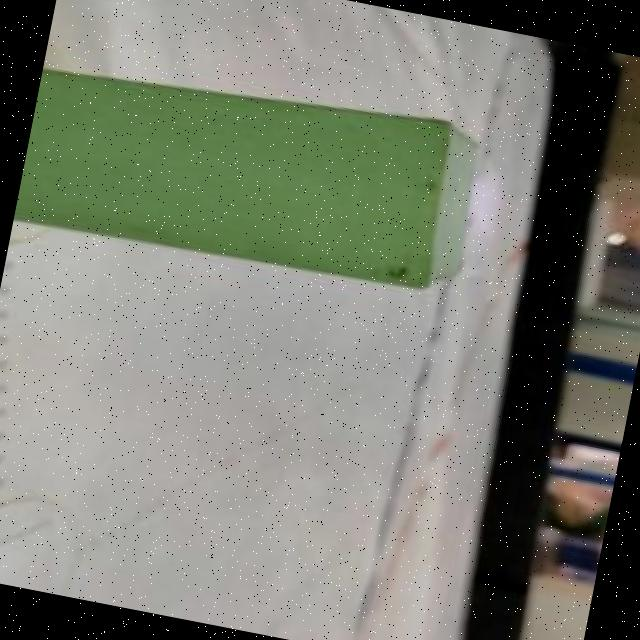greenbox: (14, 43, 492, 304)
